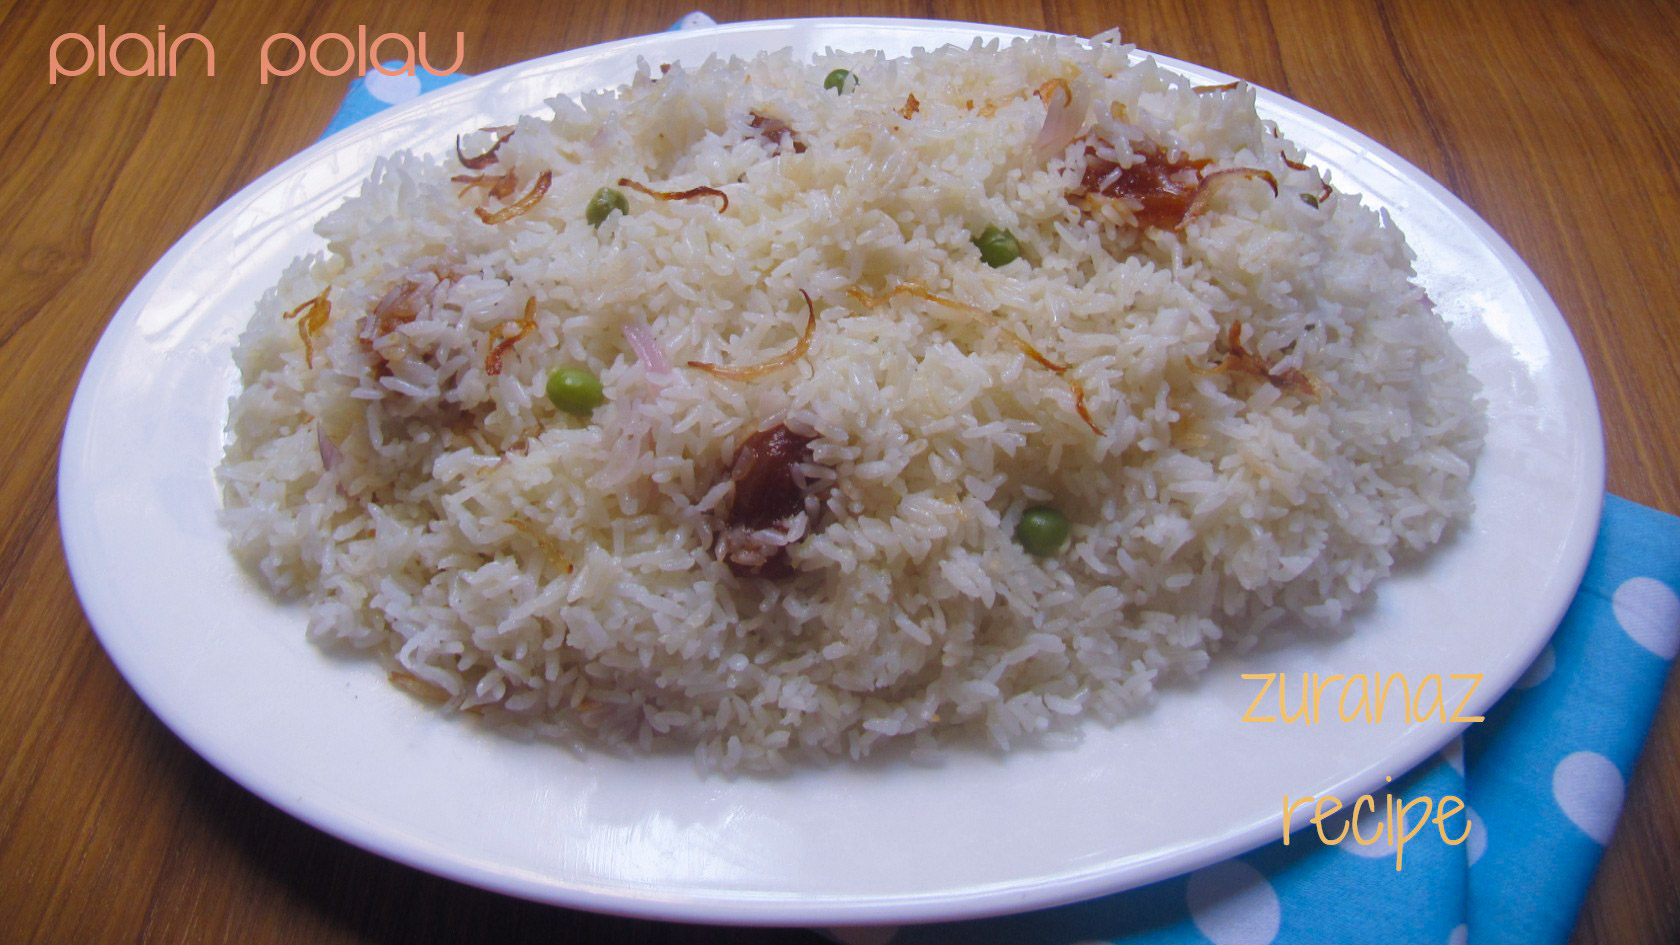plain rice: (234, 62, 1467, 753)
